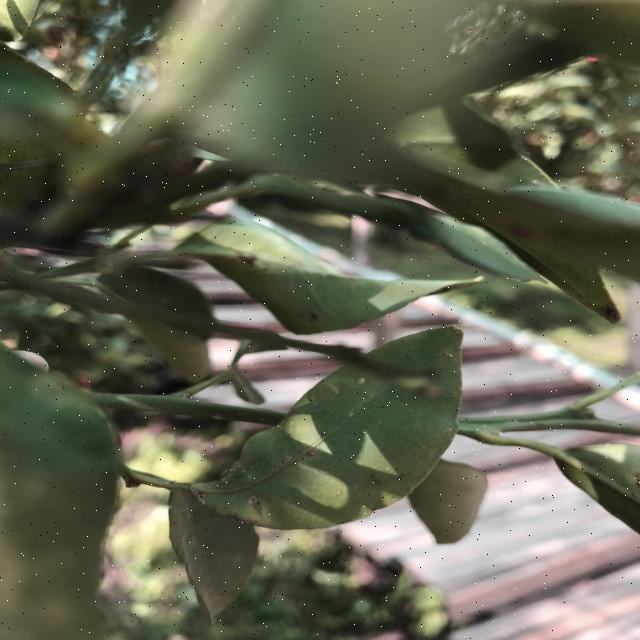canker: (216, 372, 457, 522), (208, 232, 421, 322)
